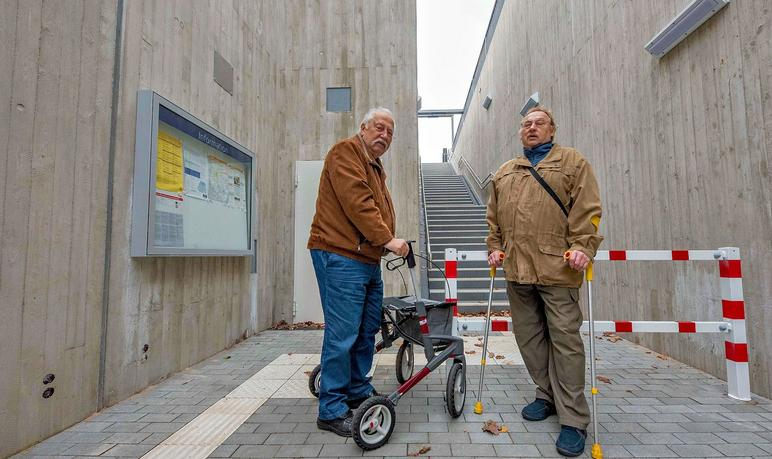crutches: (474, 107, 604, 459)
walking_frame: (307, 107, 467, 450)
